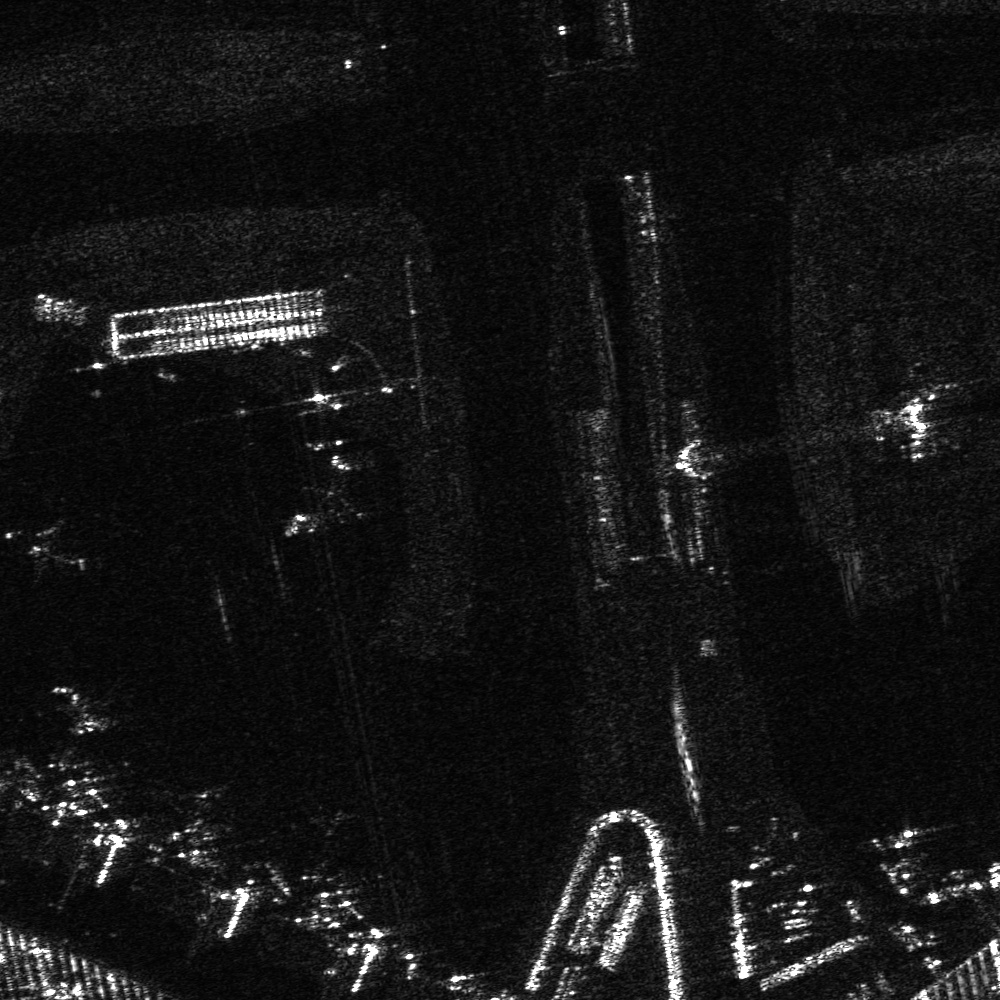Boeing787: (289, 452, 370, 536), (35, 757, 112, 835)
other: (3, 517, 88, 588)
